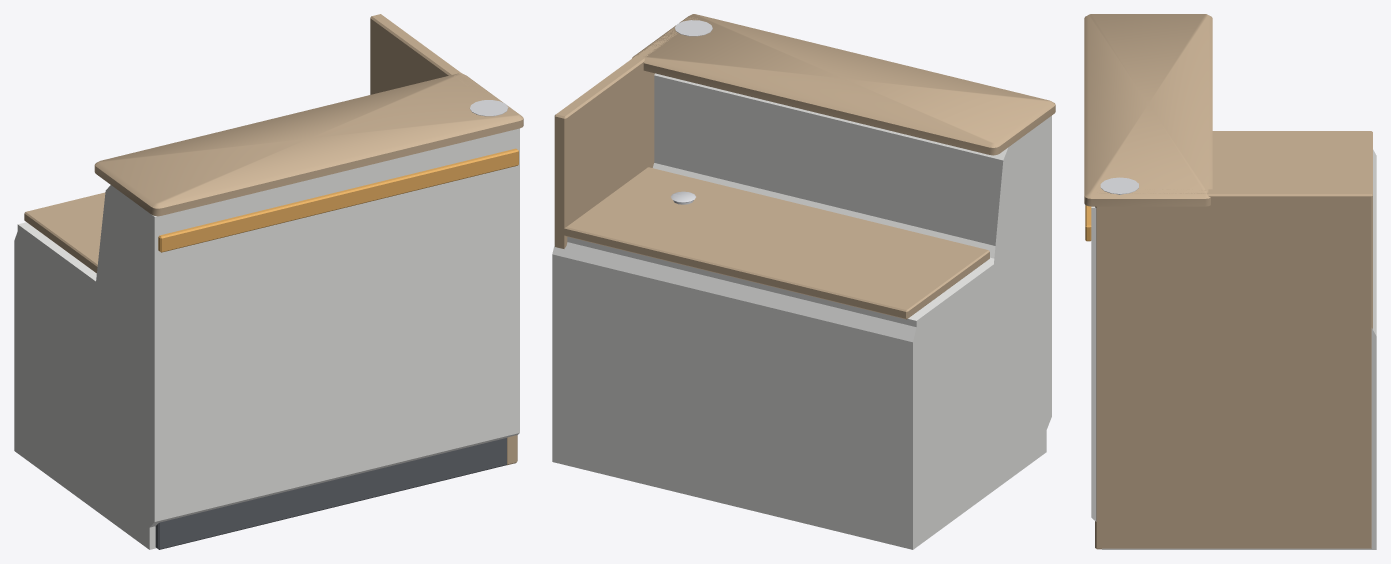
File: office-lobby-and-facilities-reception-desk-end-module-8258fc61__26135.glb
3 renders of one model, left to right at view 1: azimuth 30°, elevation 25°; view 2: azimuth 150°, elevation 25°; view 3: azimuth 270°, elevation 25°, orthographic. The views are drawn at different scales.
Visible parts, largest first — view 1: reception-desk-end-module; view 2: reception-desk-end-module; view 3: reception-desk-end-module.
Boxes of the visible parts, box(x1,y1,x2,y2) form: reception-desk-end-module: box(14, 14, 523, 549); reception-desk-end-module: box(552, 14, 1055, 549); reception-desk-end-module: box(1084, 14, 1376, 549).
Size of the model in its own units: 1.22 by 1.1 by 0.82.
